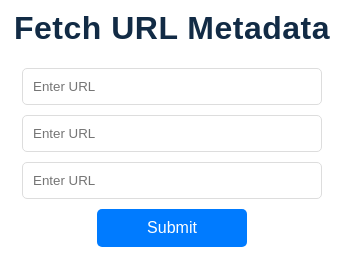
Test: MetadataForm › handles URL input change
Type "example.com" into the 1st field with placeholder "Enter URL" at coordinates (172, 86), box top-left (22, 68), bottom-right (322, 105)
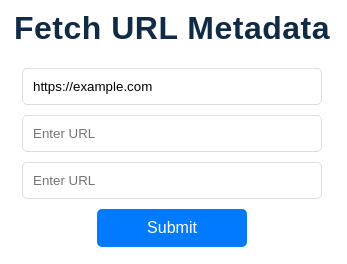
Expected: the field with placeholder "Enter URL" holds "https://example.com", top-left (22, 68), bottom-right (322, 105)
